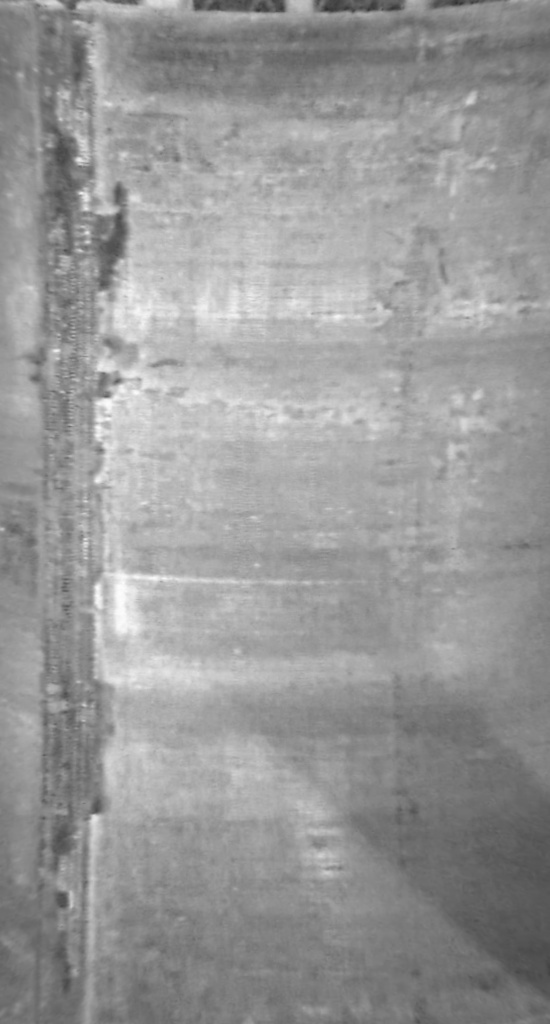splice: (17, 1, 120, 1024)
